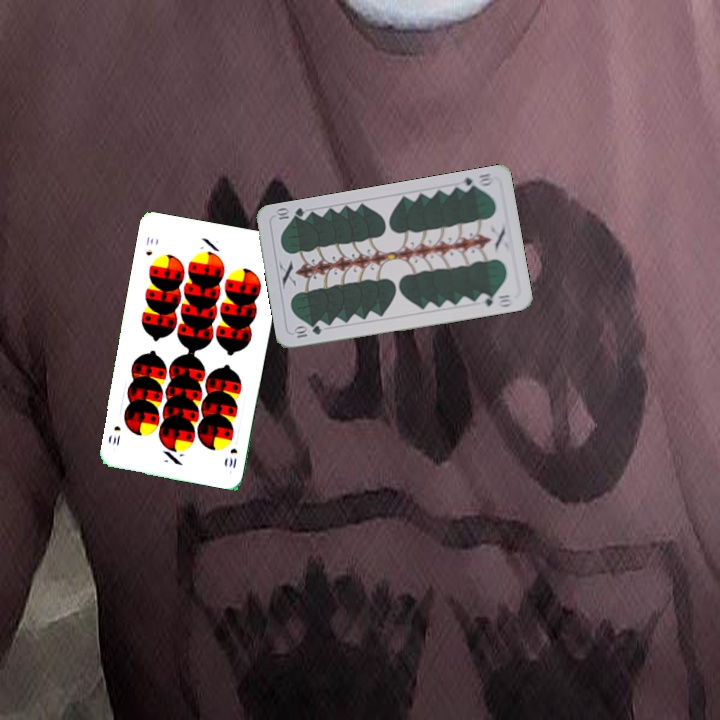G10: (456, 169, 495, 194), (290, 322, 324, 341)
S10: (225, 444, 240, 471), (142, 232, 156, 258)
